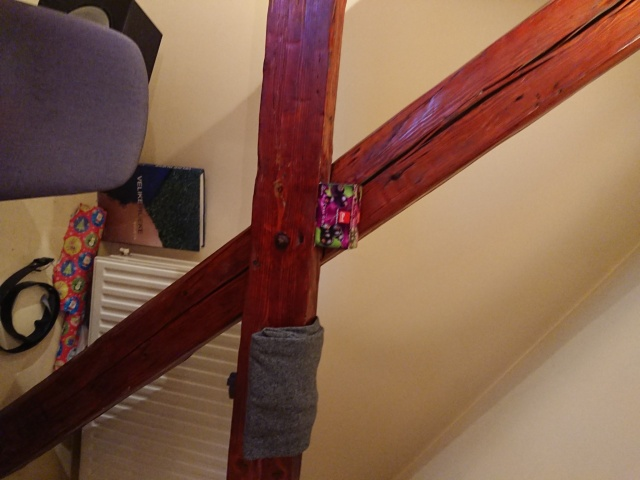Franck Black Currant Tea 60g: (310, 180, 366, 252)
